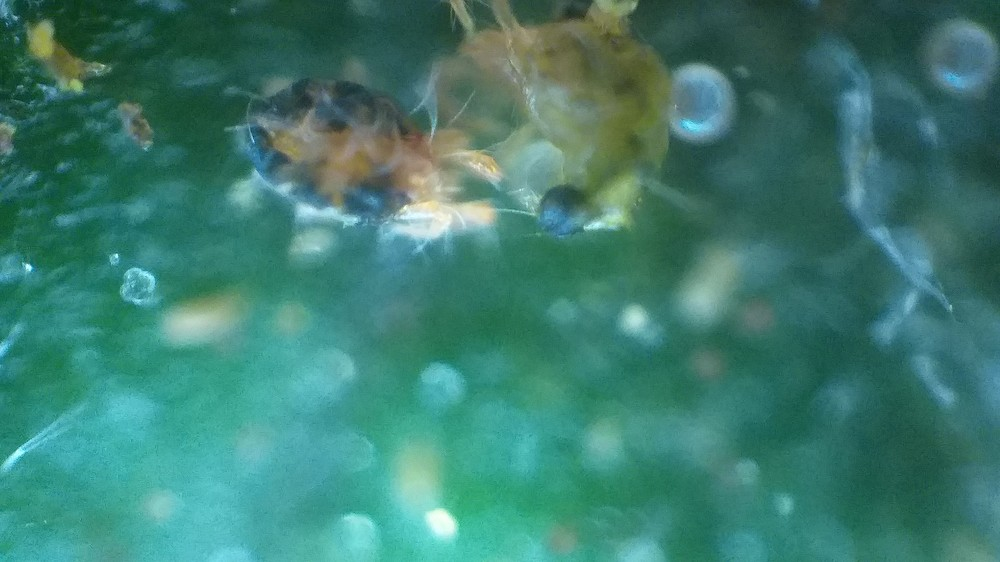Aracnido Rojo: (436, 1, 696, 246), (220, 70, 508, 266)
